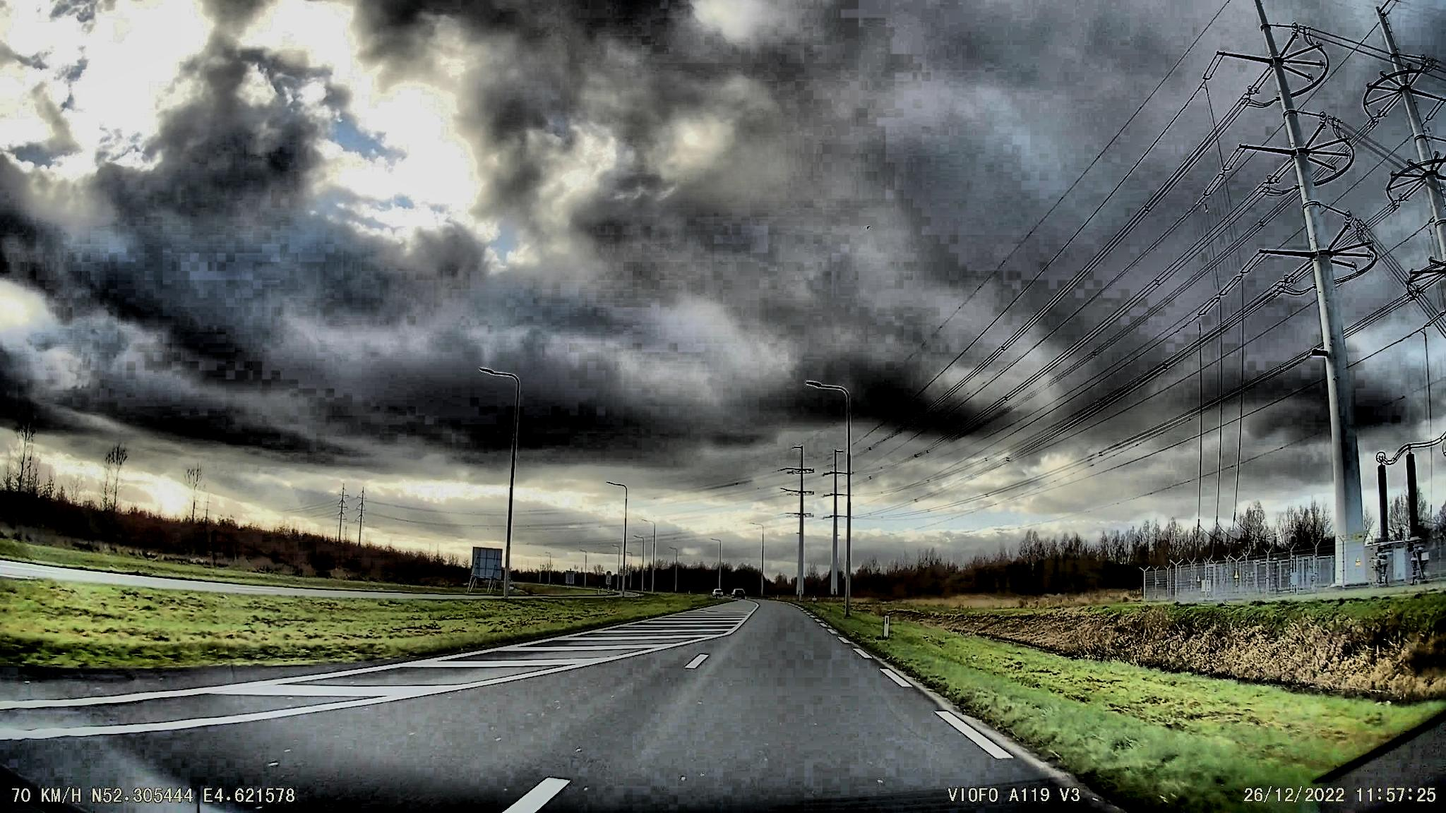Roads: (0, 602, 1131, 813)
